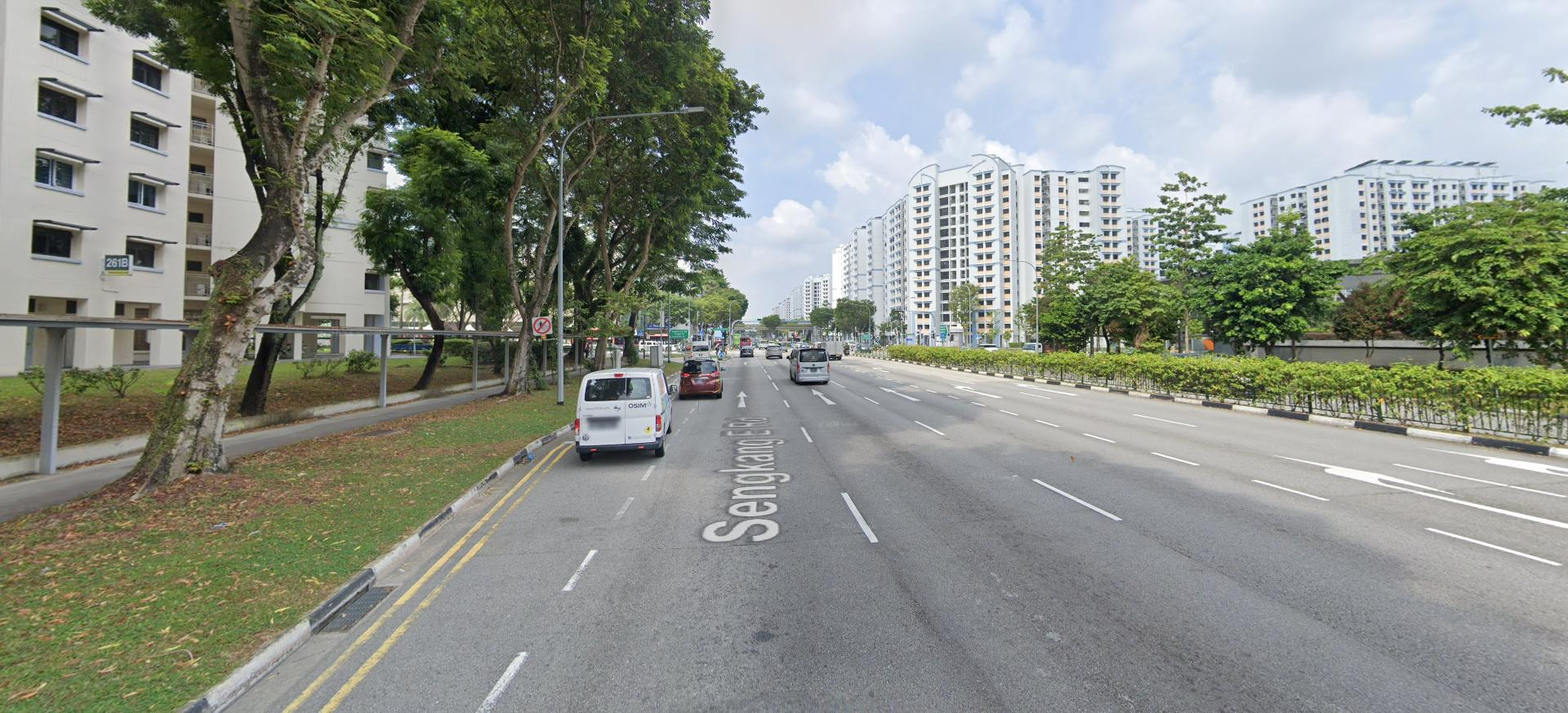defect: (320, 585, 399, 631)
